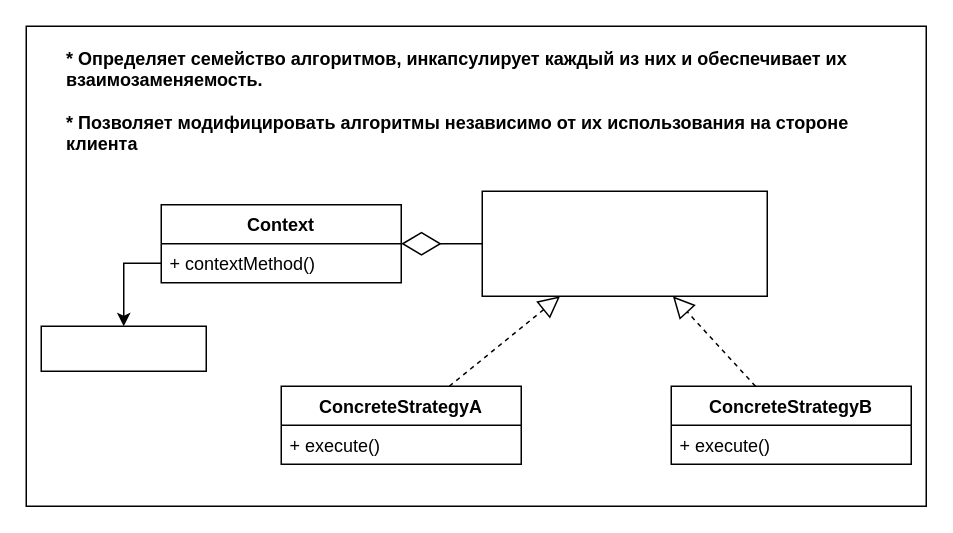
Image size: 953x533. Some labels were removed from this diagram. The shapes that lost their labels are listed below. From the top down, each one's centre as x and y in pixels, then its label:
(x=624, y=243): <<Interface>> Strategy + execute()
(x=123, y=348): strategy.execute()
